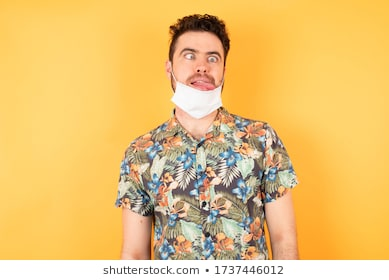mask_weared_incorrect: (172, 38, 225, 113)
